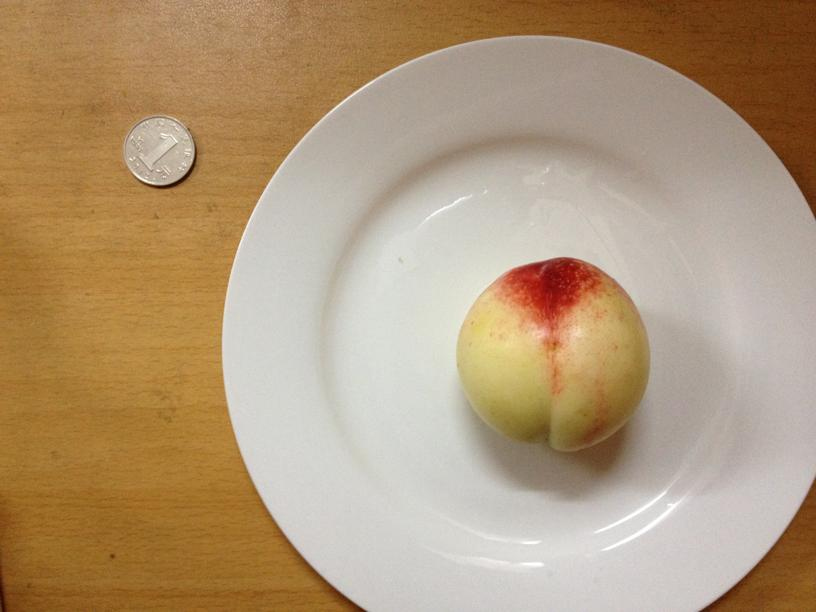coin: (121, 116, 195, 188)
peach: (449, 257, 649, 452)
